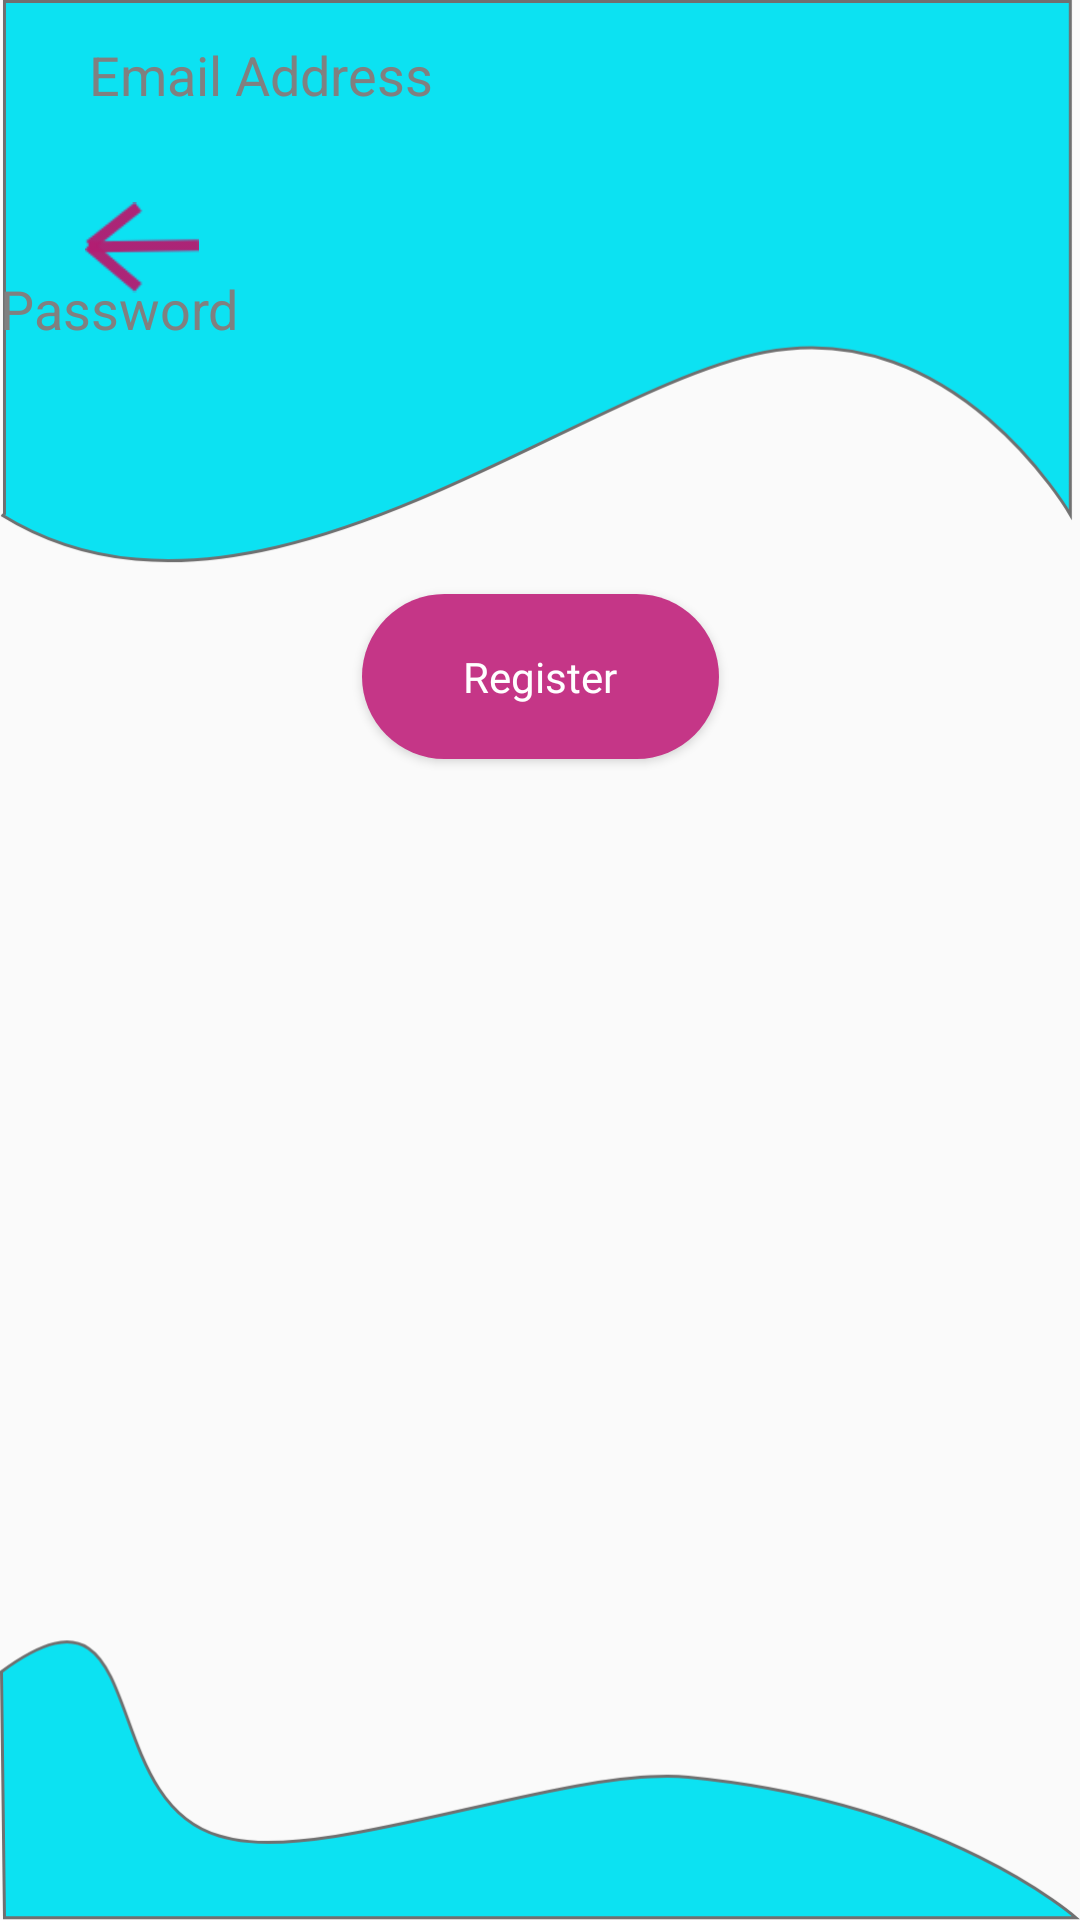

Locate icon controls on the screen. Image size 1080w x 1920h, boxes as (x1, y1, x2, y2).
arrow: (85, 202, 199, 293)
